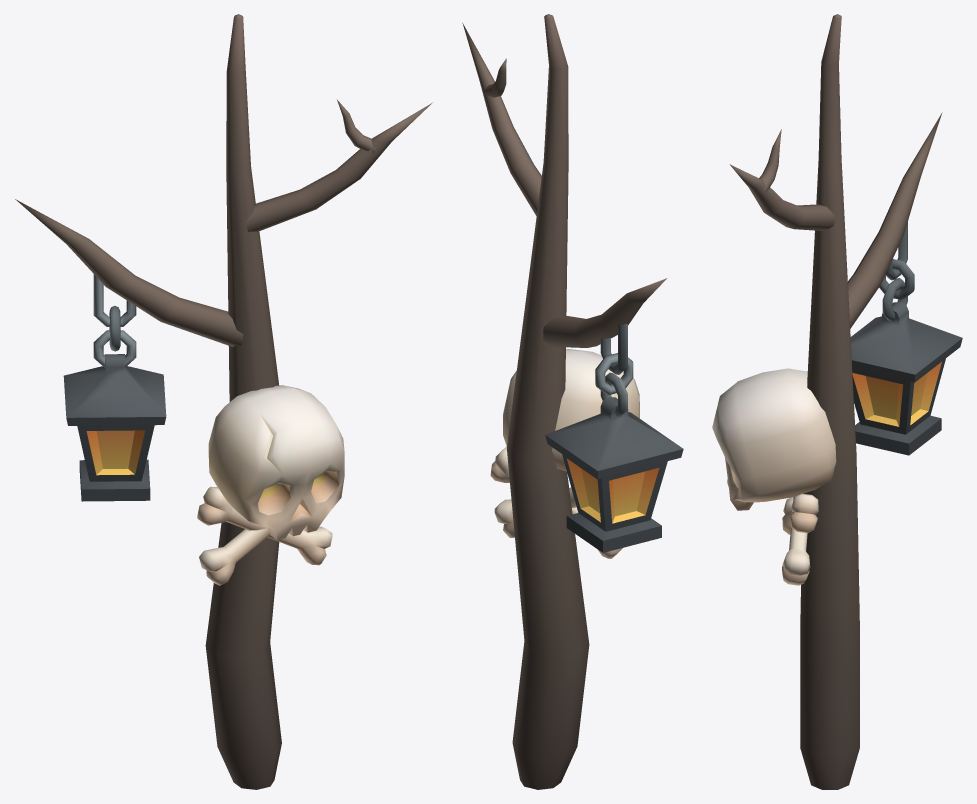
Rendered from h_tree_dead_large_decorated.glb.
3 views of the same model, side by side, from view 1: azimuth 30°, elevation 25°; view 2: azimuth 150°, elevation 25°; view 3: azimuth 270°, elevation 25° (orthographic).
Parts seen in each view (by area): view 1: tree_dead_large_decorated; view 2: tree_dead_large_decorated; view 3: tree_dead_large_decorated.
Boxes of the visible parts, x1,y1,x2,y2 form: tree_dead_large_decorated: [15, 14, 432, 789]; tree_dead_large_decorated: [462, 14, 683, 789]; tree_dead_large_decorated: [712, 14, 962, 789].
Bounding box in the file's own units: 2.3 × 5.42 × 1.61.
1 material, 1 textured.
